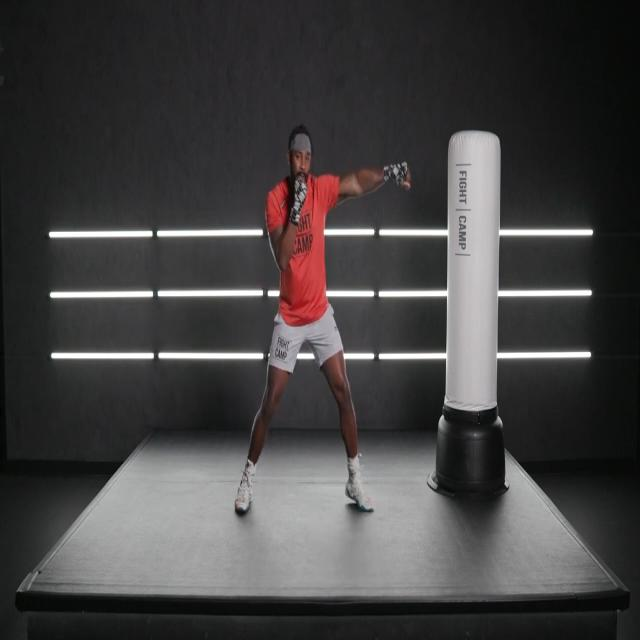Jab: (227, 157, 422, 518)
